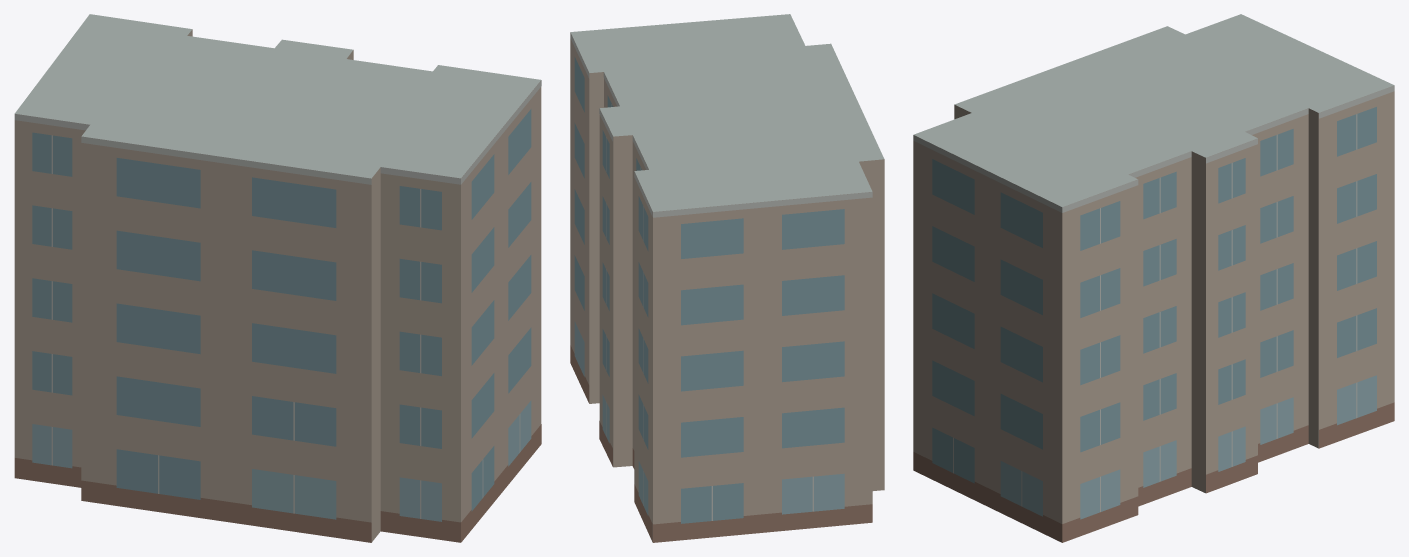
The model's file is survey-upis-33014395.glb.
3 renders of one model, left to right at view 1: azimuth 30°, elevation 25°; view 2: azimuth 150°, elevation 25°; view 3: azimuth 270°, elevation 25°, orthographic. The views are drawn at different scales.
Visible parts, largest first — view 1: survey-upis-33014395.tmp; view 2: survey-upis-33014395.tmp; view 3: survey-upis-33014395.tmp.
Boxes of the visible parts, <box> form: survey-upis-33014395.tmp: <box>14,14,541,542</box>; survey-upis-33014395.tmp: <box>570,14,884,542</box>; survey-upis-33014395.tmp: <box>913,14,1394,542</box>.
Bounding box in the file's own units: 17.29 × 14 × 18.2.
